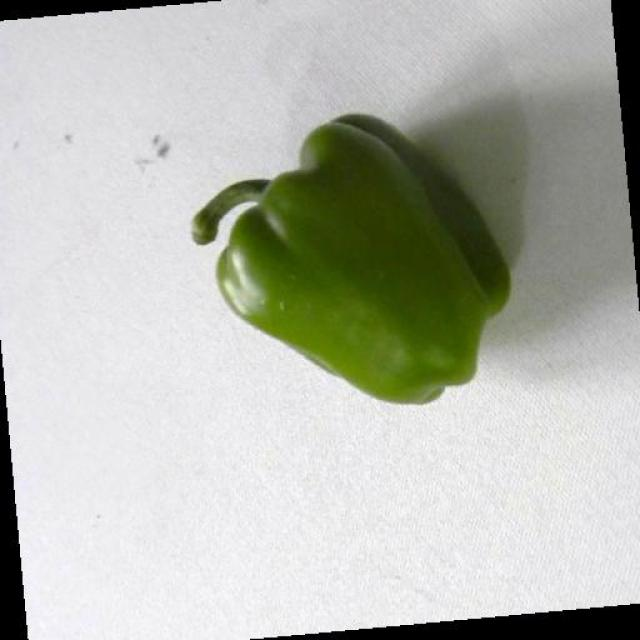Fresh_Capsicum: (260, 135, 506, 395)
